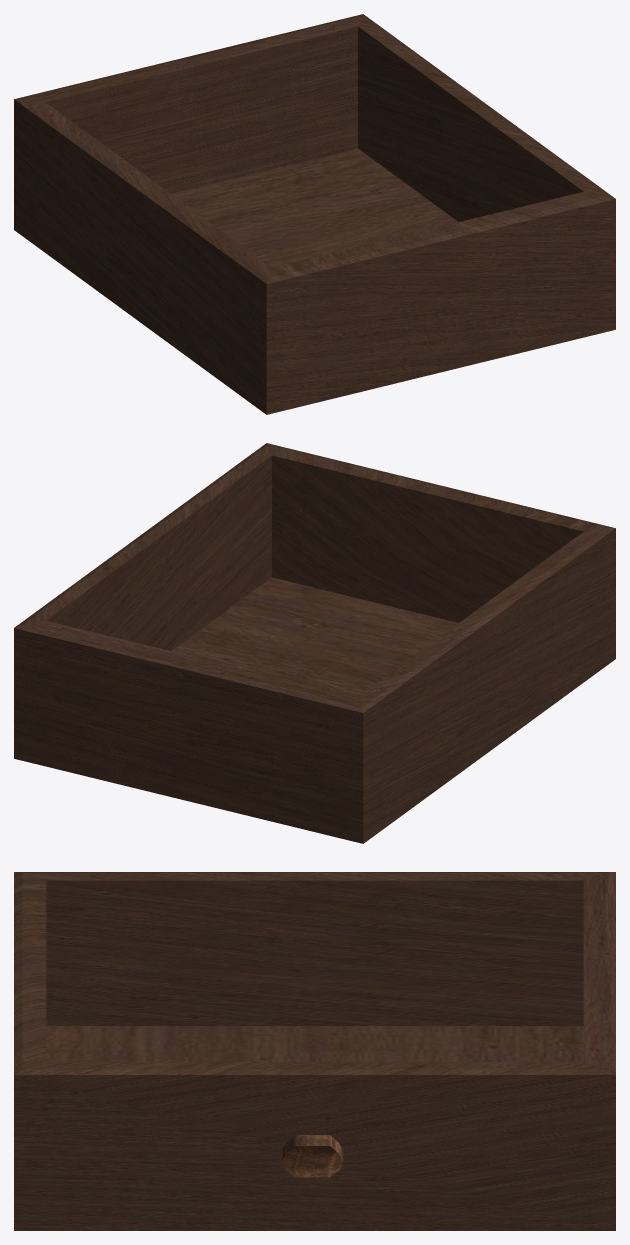
File: Tiroir.fbx
3 renders of one model, top to bottom at view 1: azimuth 30°, elevation 25°; view 2: azimuth 150°, elevation 25°; view 3: azimuth 270°, elevation 25°, orthographic. The views are drawn at different scales.
Visible parts, largest first — view 1: Cube; view 2: Cube; view 3: Cube, Cube.001.
Part boxes in pixels (<box>): Cube: <box>14,14,615,414</box>; Cube: <box>14,443,615,843</box>; Cube: <box>14,872,615,1230</box>; Cube.001: <box>282,1135,343,1177</box>.
Size of the model in its own units: 315 by 111 by 375.
